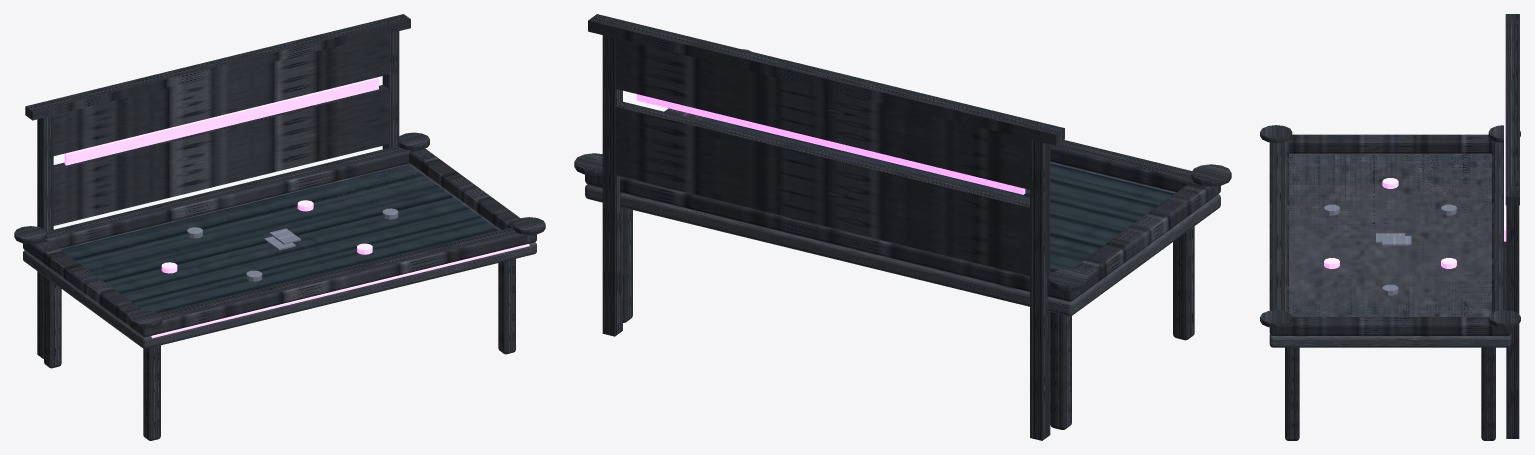
File: fun_gametable.glb
3 views of the same model, side by side, from view 1: azimuth 30°, elevation 25°; view 2: azimuth 150°, elevation 25°; view 3: azimuth 270°, elevation 25° (orthographic). The views are drawn at different scales.
Visible parts, largest first — view 1: sight_shell, felt, rail0, rail2, top, sightglow, siderail0, siderail2, leg00, leg20, leg02, neon; view 2: sight_shell, top, felt, rail2, siderail0, rail0, sightglow, leg02, leg00, leg22, cap00, cap02; view 3: top, felt, sight_shell, siderail2, siderail0, rail0, rail2, leg20, leg22, cap00, cap20, cap22 (+2 smaller).
Part boxes in pixels (x1,y1,x2,y2): sight_shell: (25,14,410,358); felt: (60,164,498,313); rail0: (135,227,536,337); rail2: (46,146,409,248); top: (23,163,536,348); sightglow: (64,77,378,165); siderail0: (23,239,156,336); siderail2: (409,148,534,244); leg00: (143,345,160,440); leg20: (498,259,515,354); leg02: (44,276,61,368); neon: (151,244,529,338); sight_shell: (588,14,1064,440); top: (585,116,1220,316); felt: (700,117,1174,272); rail2: (588,175,1081,301); siderail0: (1054,181,1220,301); rail0: (1050,140,1219,196); sightglow: (636,94,1025,194); leg02: (1050,312,1071,429); leg00: (1173,226,1194,340); leg22: (623,207,632,322); cap00: (1191,164,1231,186); cap02: (1048,269,1088,291); top: (1269,153,1511,347); felt: (1289,154,1491,316); sight_shell: (1505,14,1519,438); siderail2: (1270,317,1511,335); siderail0: (1287,134,1493,153); rail0: (1269,141,1288,334); rail2: (1492,141,1511,334); leg20: (1285,347,1299,440); leg22: (1481,347,1495,440); cap00: (1260,125,1292,142); cap20: (1260,310,1292,327); cap22: (1488,310,1520,327).
Size of the model in its own units: 2.92 by 1.7 by 1.62.
Materials: 7 (5 with a texture image).
